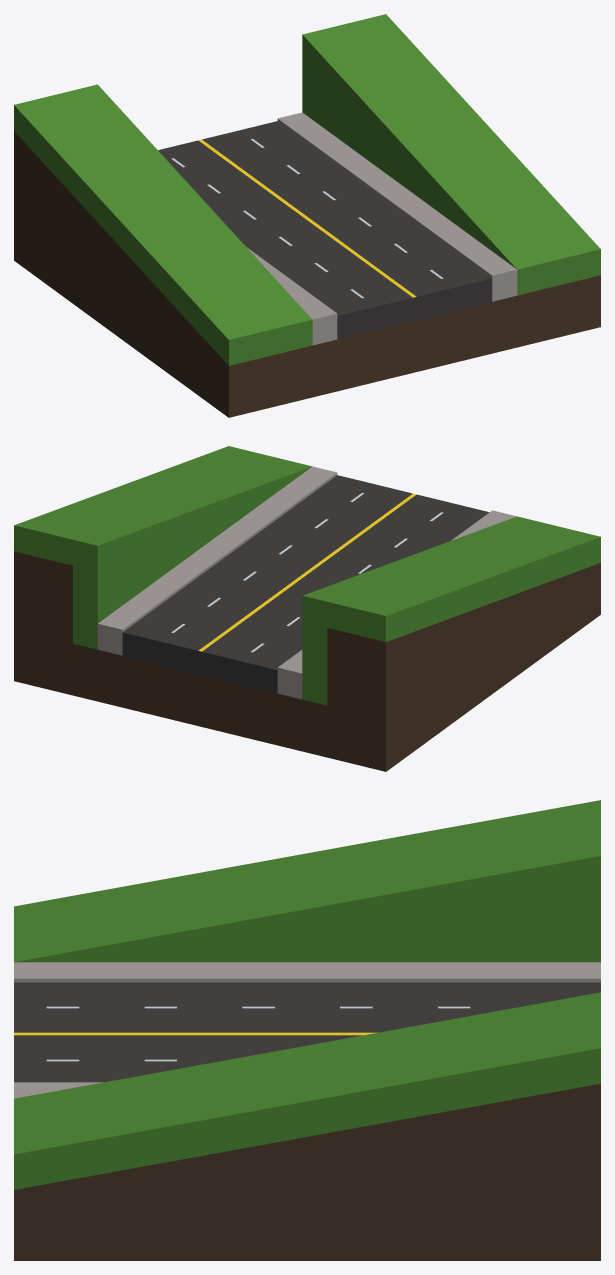
The model's file is tiles_tile-mainroad-tunnel-entrance.fbx.
The picture shows the model from 3 angles, top to bottom: view 1: azimuth 30°, elevation 25°; view 2: azimuth 150°, elevation 25°; view 3: azimuth 270°, elevation 25°; orthographic projection. The views are drawn at different scales.
Parts seen in each view (by area): view 1: tiles_tile_mainroad_tunnel_entrance; view 2: tiles_tile_mainroad_tunnel_entrance; view 3: tiles_tile_mainroad_tunnel_entrance.
Boxes of the visible parts, bbox=[...] form: tiles_tile_mainroad_tunnel_entrance: bbox=[14, 14, 600, 417]; tiles_tile_mainroad_tunnel_entrance: bbox=[14, 446, 600, 771]; tiles_tile_mainroad_tunnel_entrance: bbox=[14, 800, 600, 1260].
Size of the model in its own units: 200 by 80 by 200.
